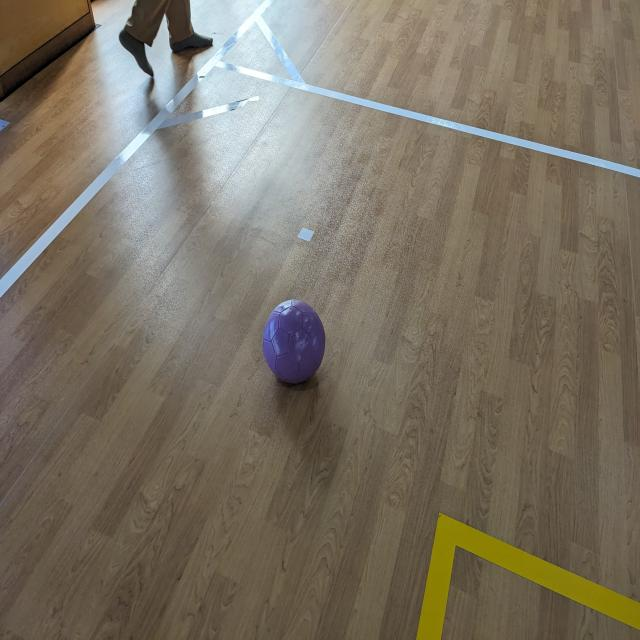purple_ball: (262, 297, 325, 385)
